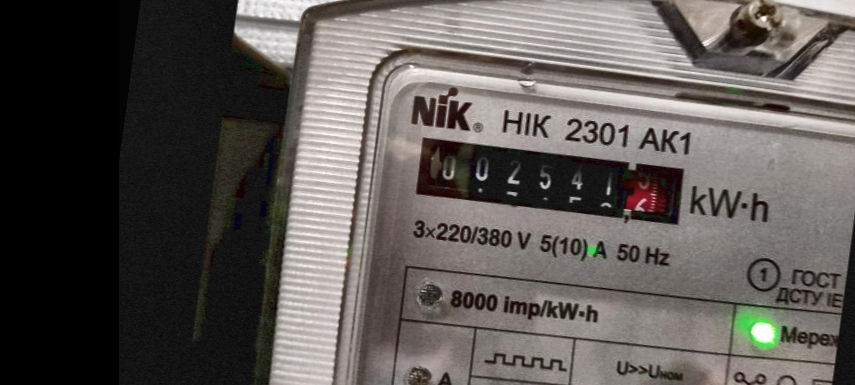0: (470, 149, 493, 184), (439, 151, 460, 182)
1: (597, 163, 618, 198)
2: (501, 152, 526, 188)
4: (567, 160, 588, 193)
5: (535, 158, 555, 192)
6: (631, 191, 649, 214)
screen: (398, 117, 708, 246)
